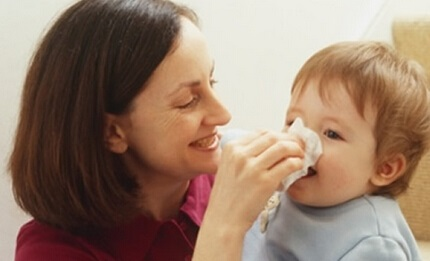face: (147, 35, 235, 177), (281, 76, 370, 207)
